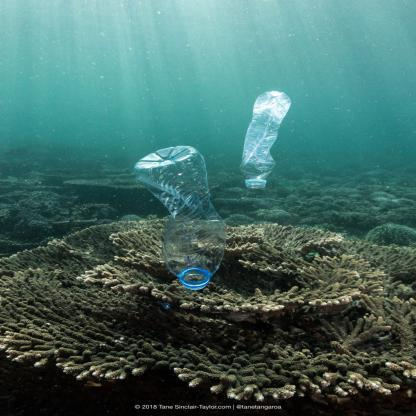Rác: (119, 143, 232, 292), (241, 88, 295, 206)
